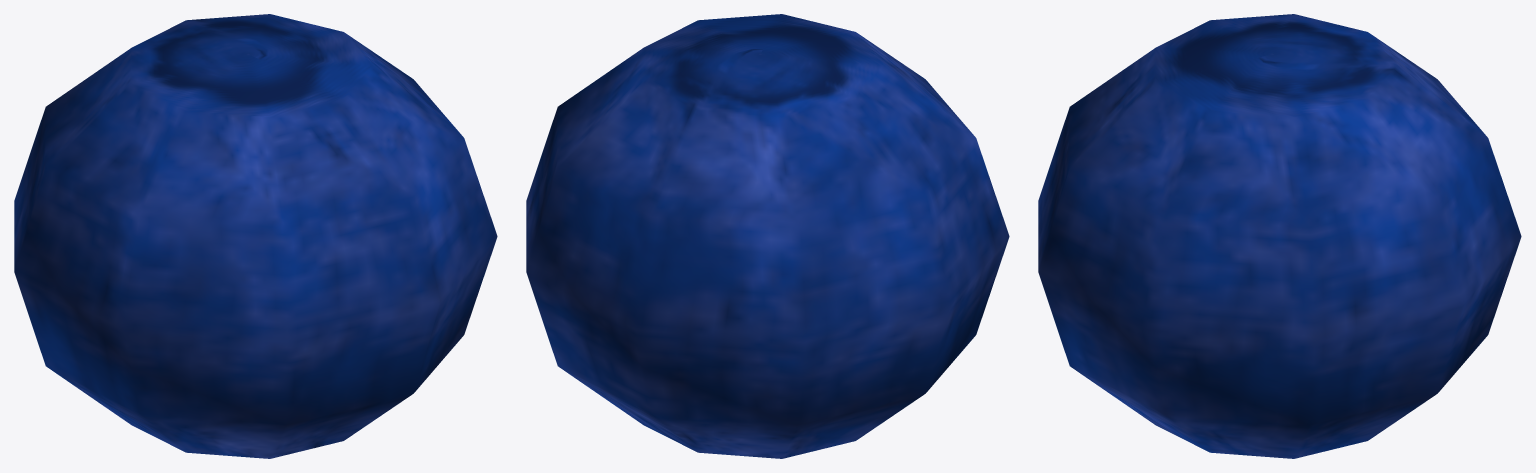
The model's file is blueberry.fbx.
3 renders of one model, left to right at view 1: azimuth 30°, elevation 25°; view 2: azimuth 150°, elevation 25°; view 3: azimuth 270°, elevation 25°, orthographic.
Visible parts, largest first — view 1: blueberry; view 2: blueberry; view 3: blueberry.
Boxes of the visible parts, left/top/right/bottom form: blueberry: left=14, top=14, right=497, bottom=458; blueberry: left=526, top=14, right=1009, bottom=458; blueberry: left=1038, top=14, right=1521, bottom=458.
Size of the model in its own units: 3.15 by 2.59 by 3.1.
